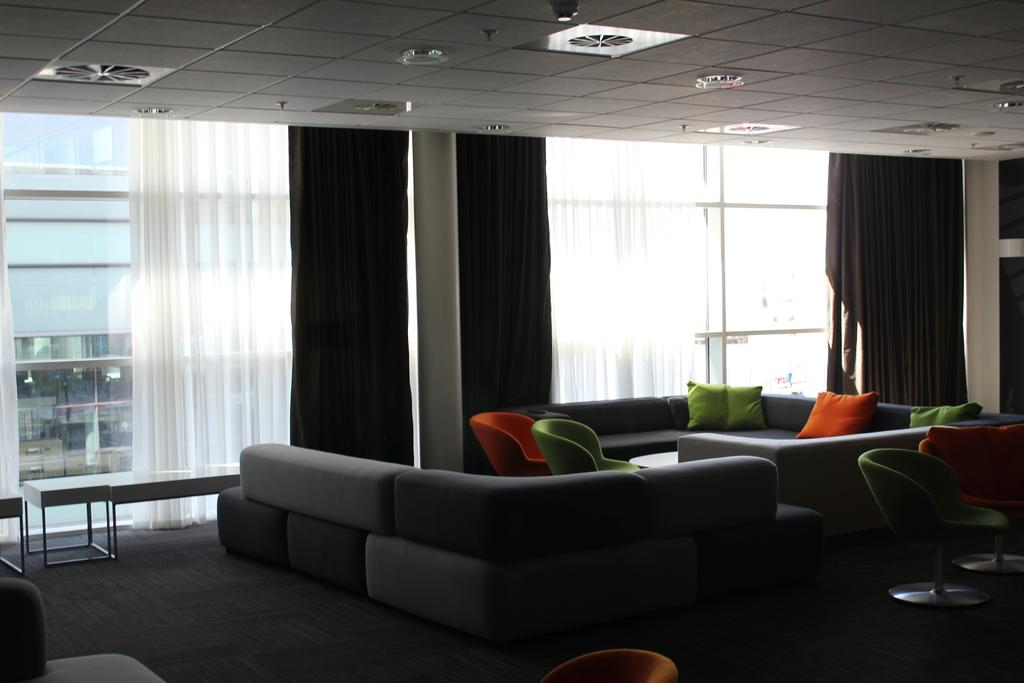Chair: (0, 577, 166, 682), (918, 425, 1023, 577), (531, 416, 641, 476), (468, 411, 552, 480), (540, 647, 682, 682)
